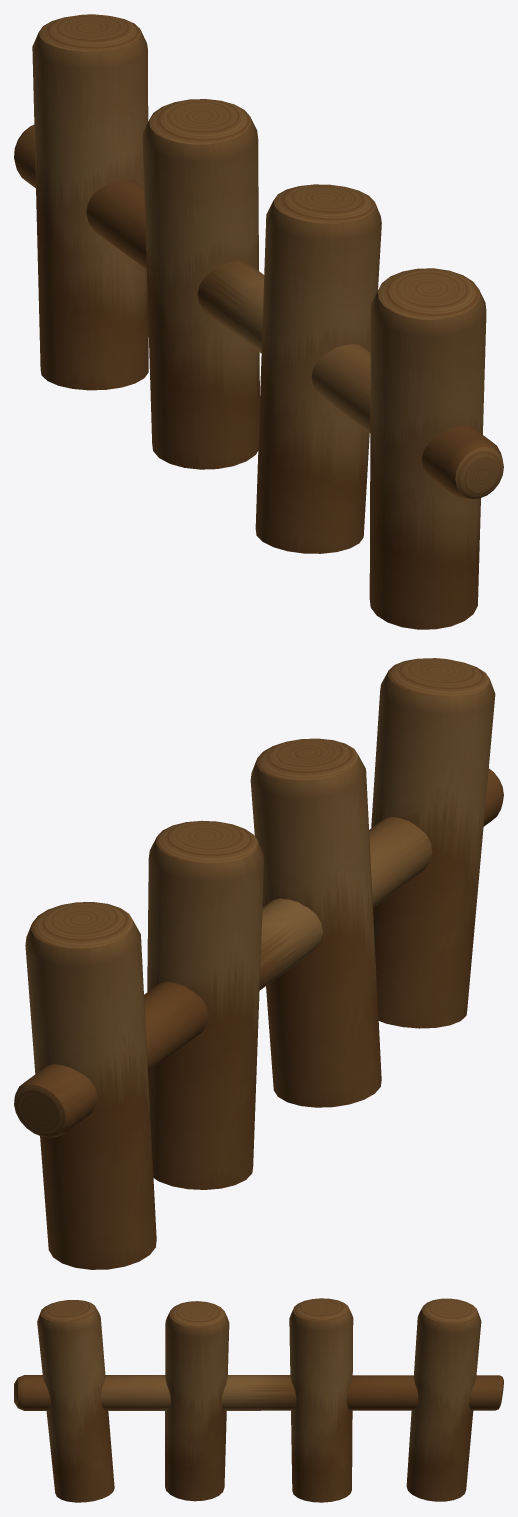
File: M_Fence.fbx
3 views of the same model, one above another, from view 1: azimuth 30°, elevation 25°; view 2: azimuth 150°, elevation 25°; view 3: azimuth 270°, elevation 25° (orthographic). The views are drawn at different scales.
Parts seen in each view (by area): view 1: M_Fence; view 2: M_Fence; view 3: M_Fence.
Part boxes in pixels (bbox=[...]): M_Fence: bbox=[14, 14, 503, 629]; M_Fence: bbox=[14, 658, 503, 1269]; M_Fence: bbox=[14, 1298, 503, 1502].
Bounding box in the file's own units: 0.2383 × 0.6763 × 1.61.
1 material, 1 textured.
